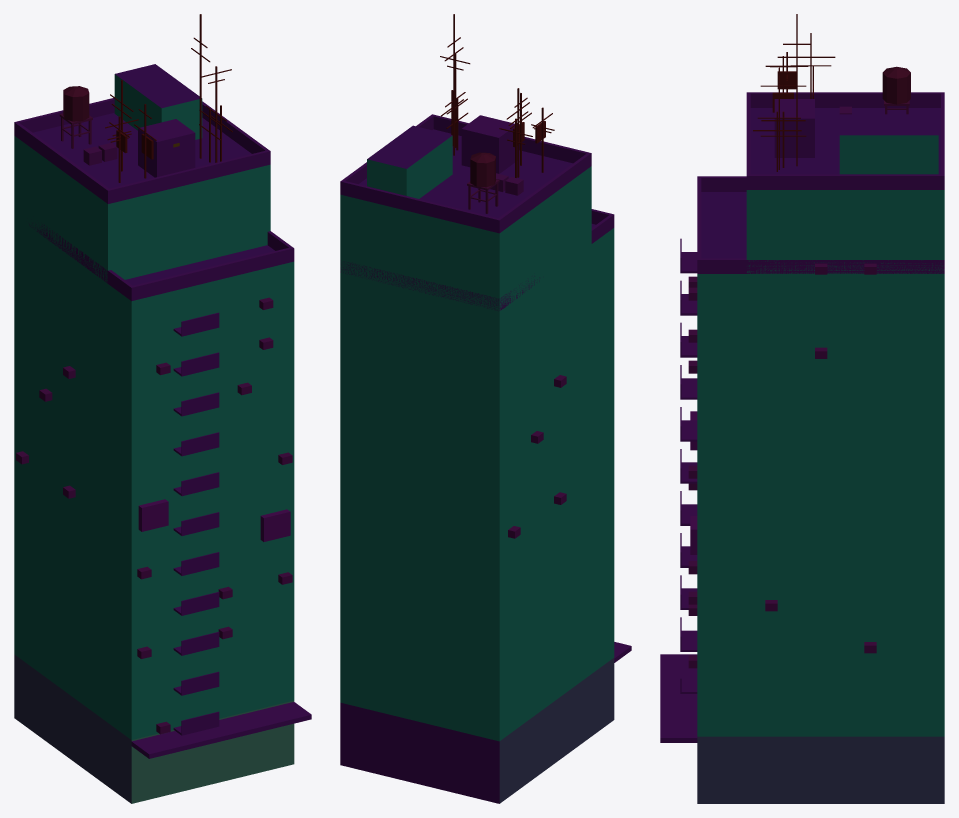
Rendered from slab_c.glb.
The picture shows the model from 3 angles, left to right: view 1: azimuth 30°, elevation 25°; view 2: azimuth 150°, elevation 25°; view 3: azimuth 270°, elevation 25°; orthographic projection. The views are drawn at different scales.
Visible parts, largest first — view 1: slab_c; view 2: slab_c; view 3: slab_c.
Boxes of the visible parts, x1,y1,x2,y2 form: slab_c: (14,14,311,803); slab_c: (340,14,631,803); slab_c: (660,14,944,803).
Bounding box in the file's own units: 13.9 × 54.62 × 18.4.
